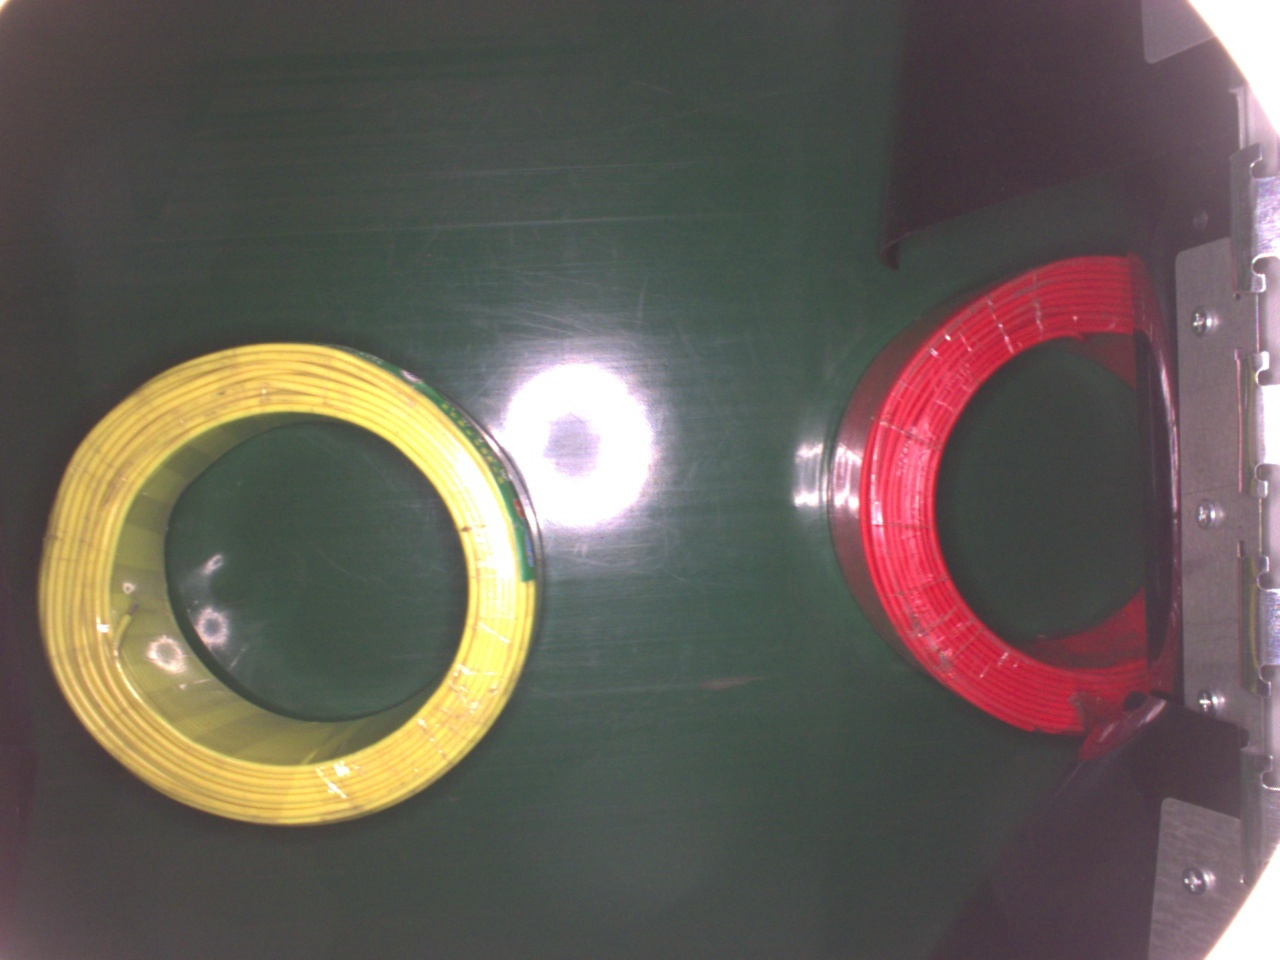red: (824, 251, 1169, 737)
yellow: (38, 336, 543, 827)
